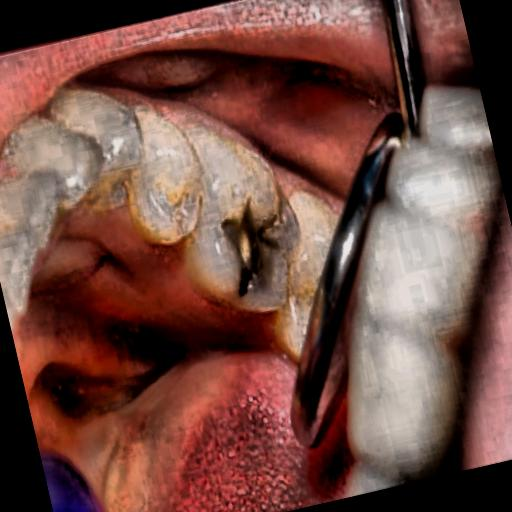Caries: (118, 131, 312, 314)
